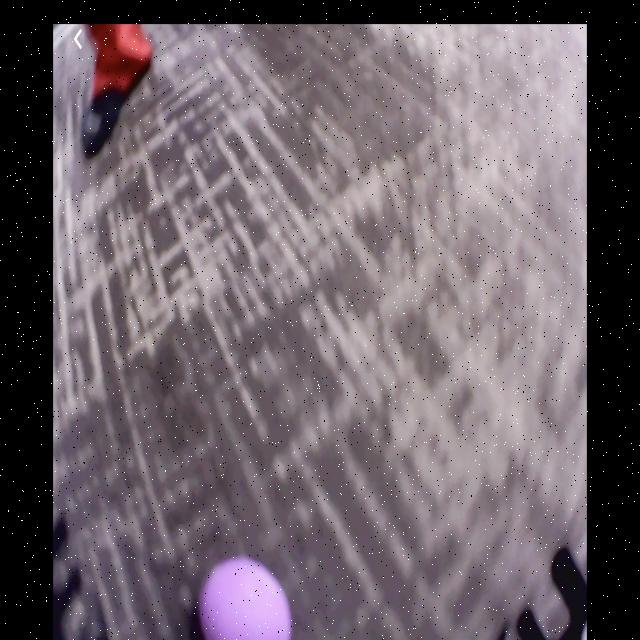ball: (199, 559, 295, 639)
